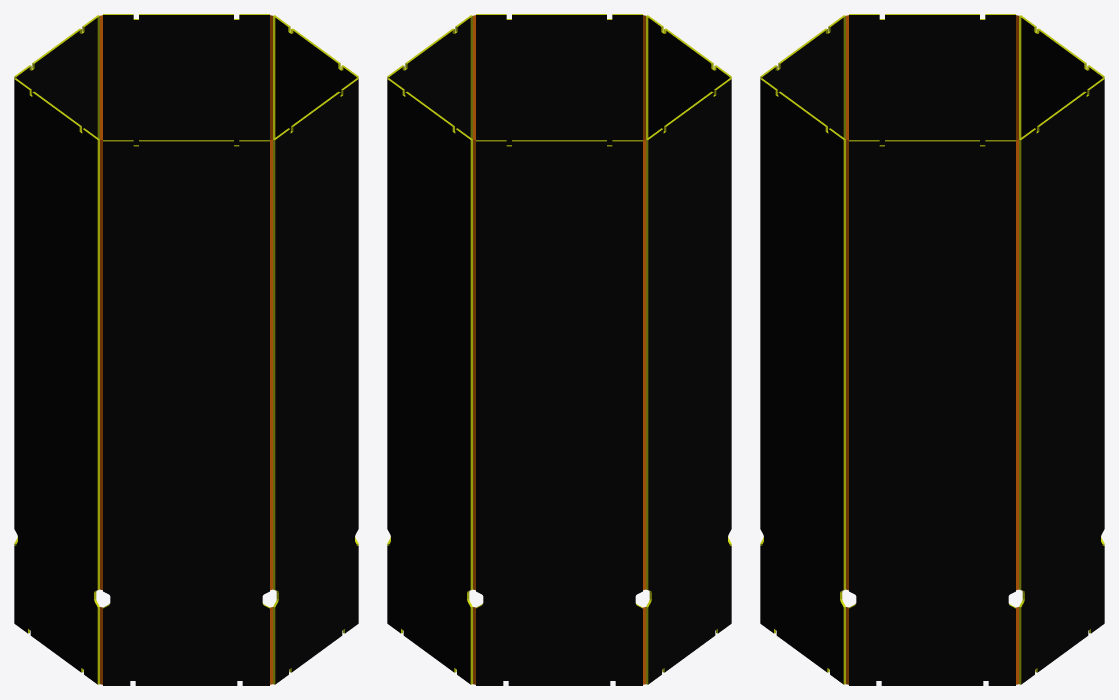
File: shell_walls.fbx
The picture shows the model from 3 angles, left to right: view 1: azimuth 30°, elevation 25°; view 2: azimuth 150°, elevation 25°; view 3: azimuth 270°, elevation 25°; orthographic projection.
Parts seen in each view (by area): view 1: Shell Walls Common/Uncommon/Rare; view 2: Shell Walls Common/Uncommon/Rare; view 3: Shell Walls Common/Uncommon/Rare.
Boxes of the visible parts, x1,y1,x2,y2 form: Shell Walls Common/Uncommon/Rare: (14, 14, 358, 685); Shell Walls Common/Uncommon/Rare: (387, 14, 731, 685); Shell Walls Common/Uncommon/Rare: (760, 14, 1104, 685).
Bounding box in the file's own units: 54.99 × 110 × 62.88.
